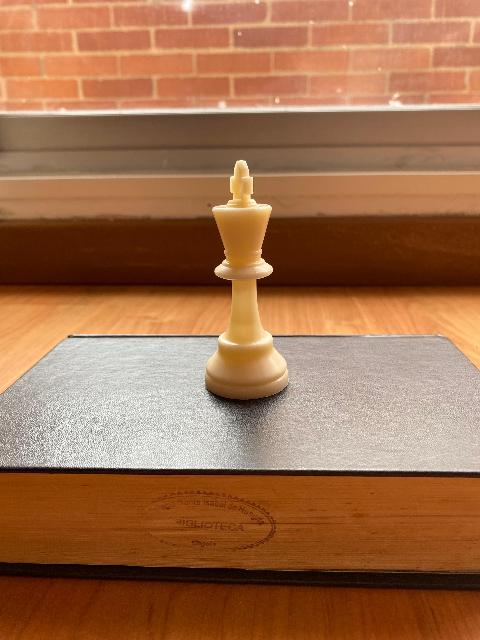white-king: (204, 160, 290, 400)
